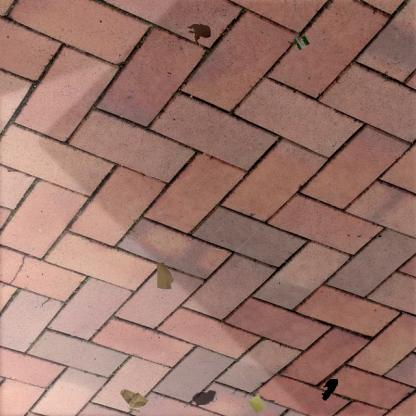dirty: (119, 387, 152, 415), (317, 376, 341, 402), (246, 392, 268, 416), (156, 260, 173, 289), (291, 29, 312, 52)
liquid: (186, 22, 212, 46), (193, 390, 217, 405)
